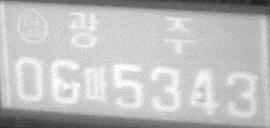0: (14, 56, 45, 104)
3: (227, 70, 258, 119), (150, 66, 181, 113)
4: (187, 67, 218, 114)
5: (112, 63, 143, 108)
6: (50, 58, 81, 105)
광주_D: (66, 10, 195, 53)
마: (84, 66, 109, 102)
영: (16, 8, 50, 45)
